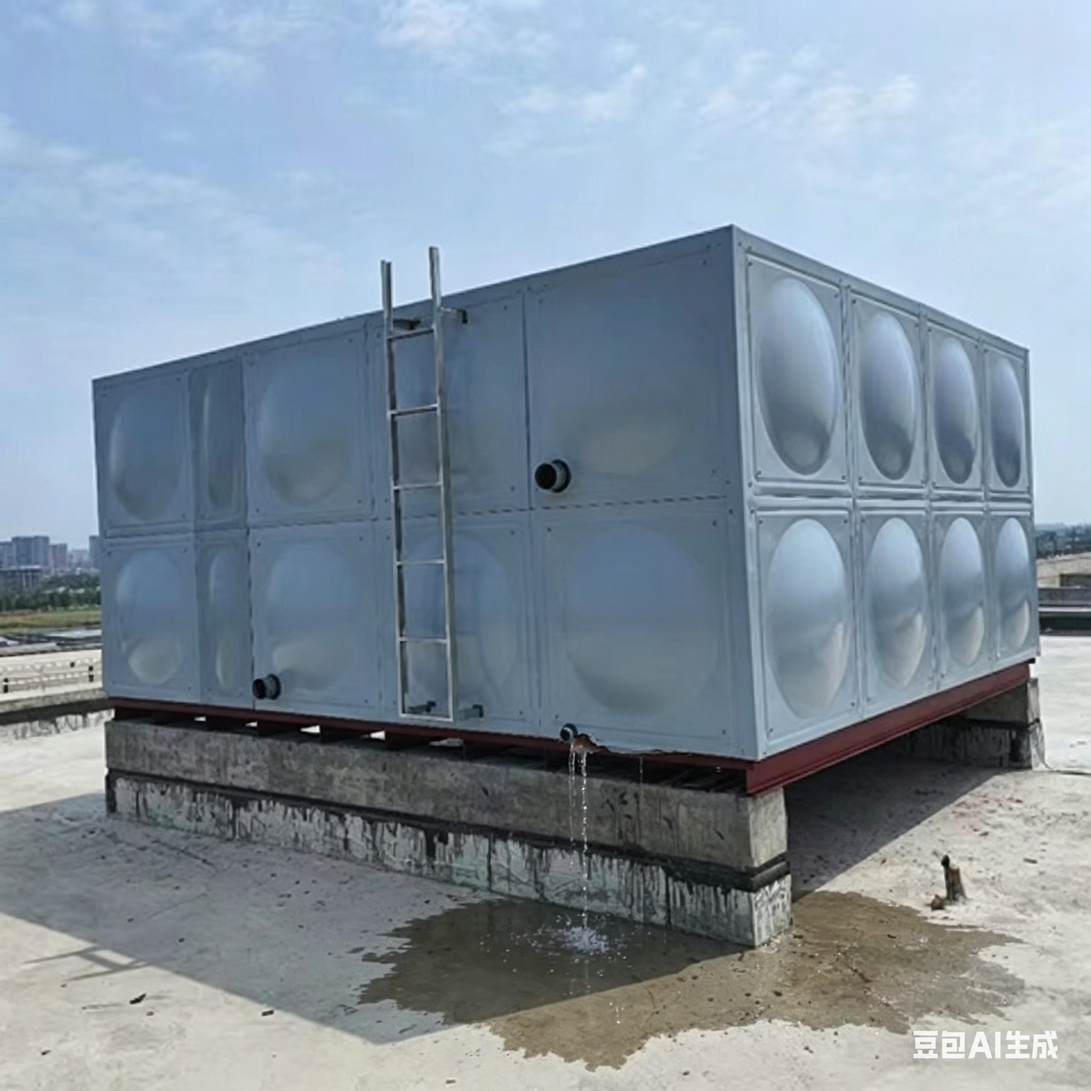Leakage: (640, 919, 1031, 1041), (548, 722, 632, 1057), (385, 890, 541, 1063)
